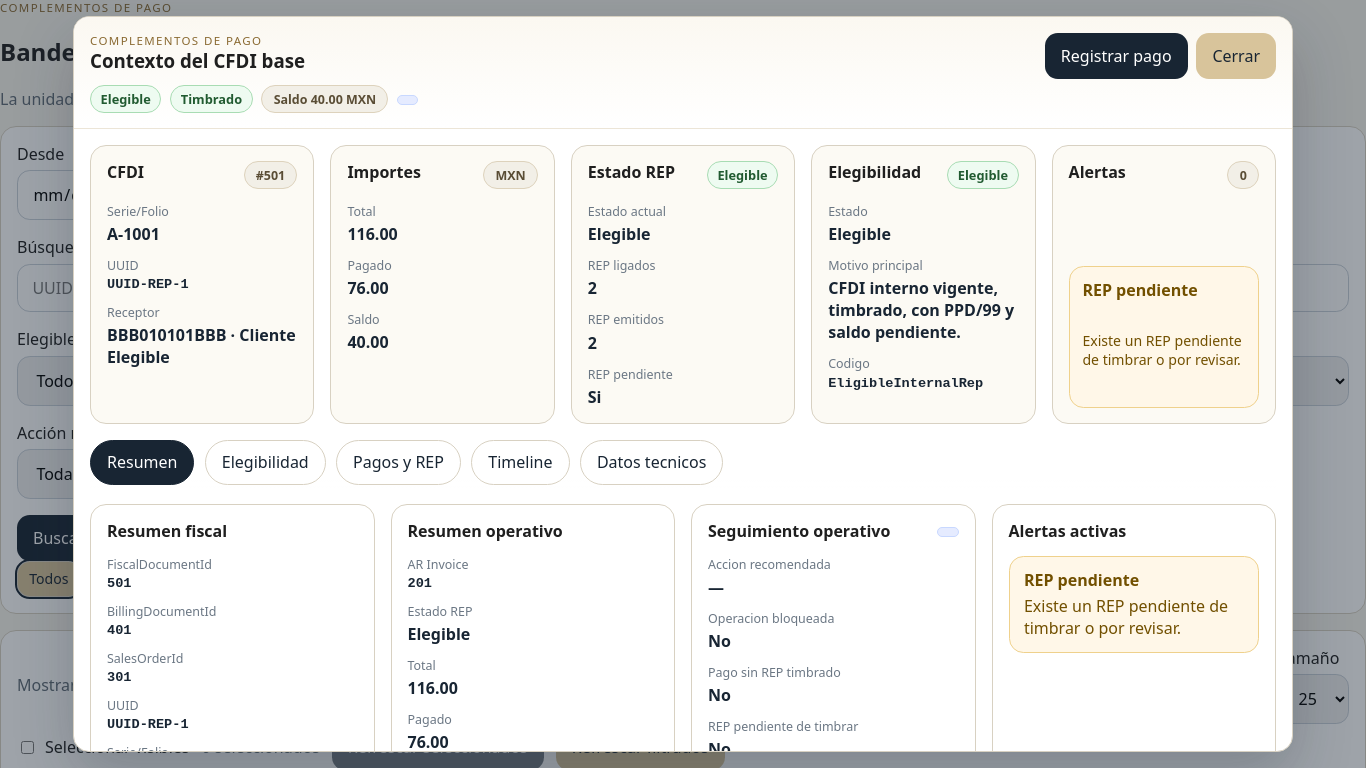
Test: PaymentComplementBaseDocumentsPageComponent › stamps a prepared REP from the base-document context and refreshes the detail
Click the tab "Pagos y REP": {"x": 399, "y": 462} x1=336 y1=440 x2=461 y2=485
(page scrolled)
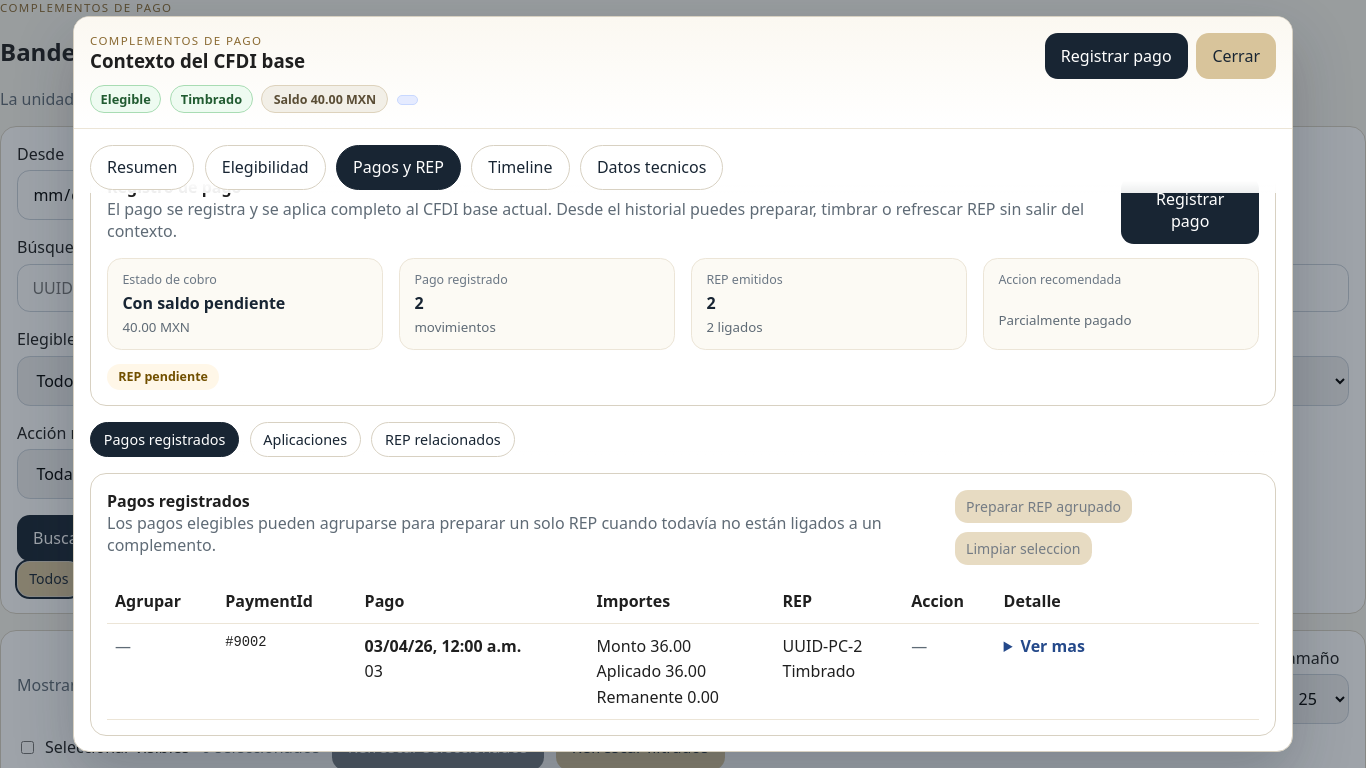
Click the tab "REP relacionados": {"x": 443, "y": 440} x1=371 y1=422 x2=514 y2=457
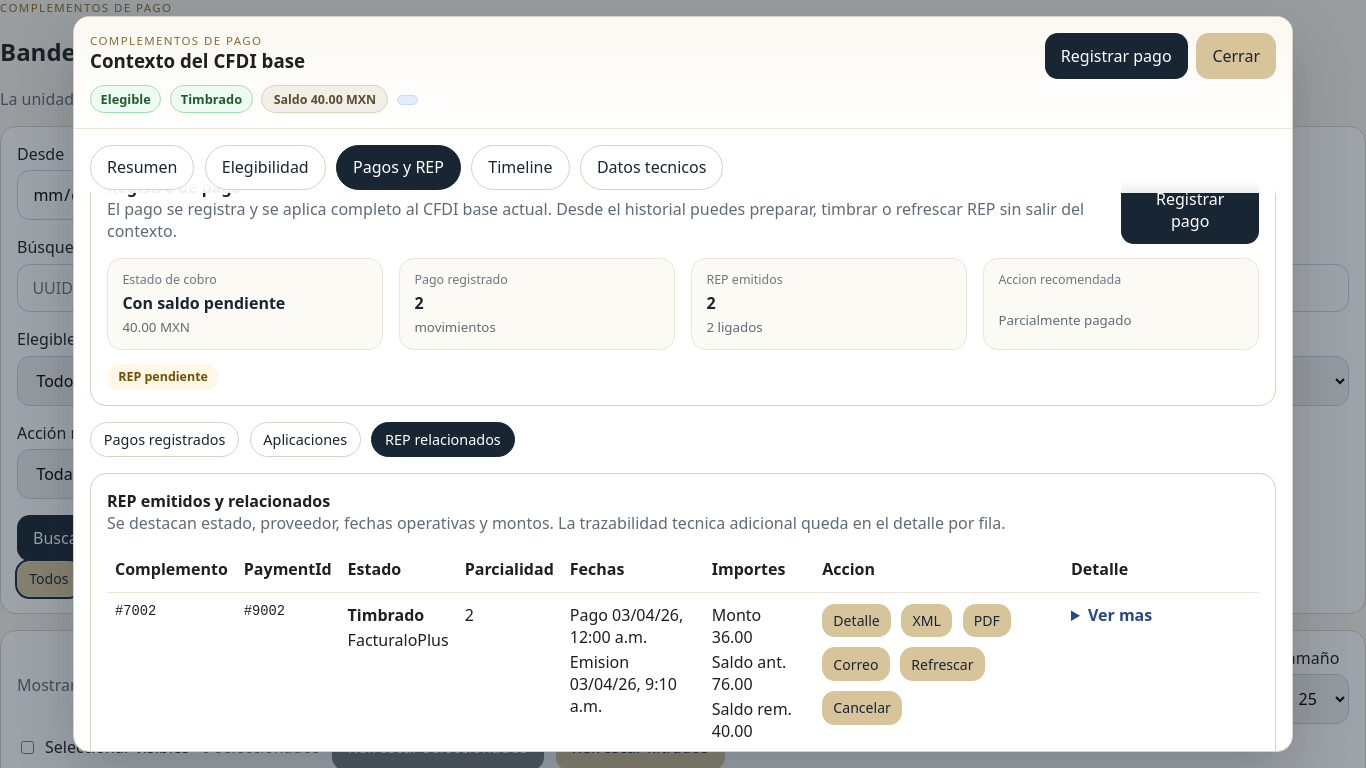
Expected: the text "FacturaloPlus" is shown, x1=348 y1=629 x2=449 y2=651
